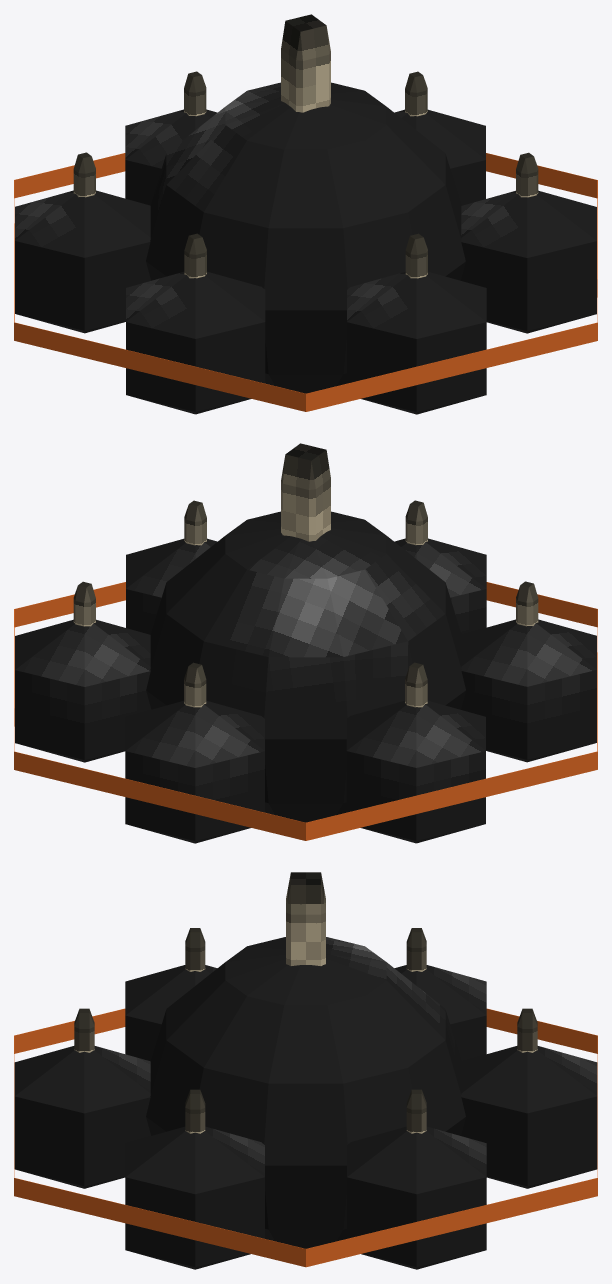
File: cluster.gltf
3 renders of one model, top to bottom at view 1: azimuth 30°, elevation 25°; view 2: azimuth 150°, elevation 25°; view 3: azimuth 270°, elevation 25°, orthographic.
Parts seen in each view (by area): view 1: sphere (×7), tube, beveled_cuboid (×7); view 2: sphere (×7), tube, beveled_cuboid (×7); view 3: sphere (×7), tube, beveled_cuboid (×7).
Boxes of the visible parts, x1=… form: sphere (×7): x1=15, y1=82, x2=596, y2=414; tube: x1=14, y1=153, x2=597, y2=411; beveled_cuboid (×7): x1=73, y1=14, x2=538, y2=278; sphere (×7): x1=15, y1=511, x2=596, y2=843; tube: x1=14, y1=582, x2=597, y2=840; beveled_cuboid (×7): x1=73, y1=443, x2=538, y2=707; sphere (×7): x1=14, y1=937, x2=597, y2=1269; tube: x1=14, y1=1008, x2=597, y2=1267; beveled_cuboid (×7): x1=74, y1=872, x2=537, y2=1133.
Bounding box in the file's own units: 2.09 × 1.25 × 1.81.
3 materials, 3 textured.
